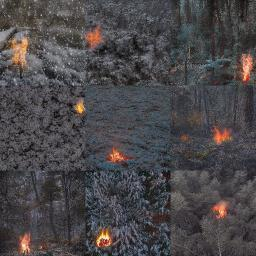Small fire: (207, 124, 234, 151), (101, 145, 134, 167), (9, 40, 31, 67), (208, 197, 231, 221), (14, 231, 36, 255), (94, 228, 114, 254), (237, 50, 254, 80), (87, 26, 105, 51), (70, 98, 88, 120)
